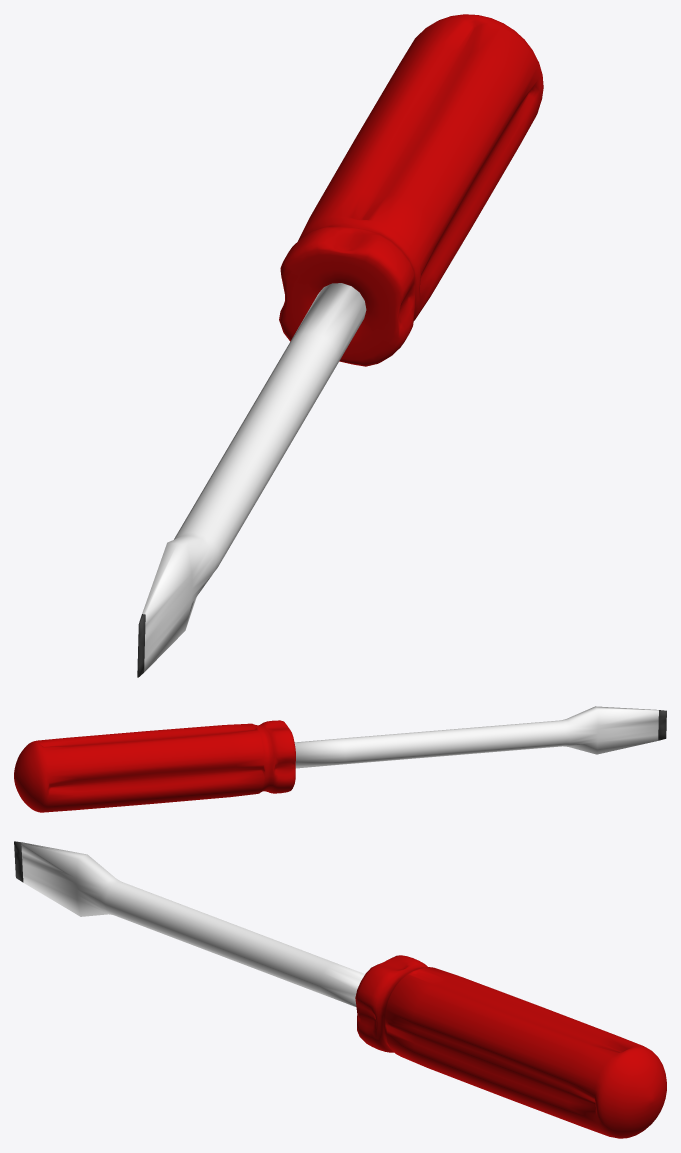
File: screwdriver.dae
The picture shows the model from 3 angles, top to bottom: view 1: azimuth 30°, elevation 25°; view 2: azimuth 150°, elevation 25°; view 3: azimuth 270°, elevation 25°; orthographic projection. The views are drawn at different scales.
Visible parts, largest first — view 1: handle, neck; view 2: handle, neck, tip; view 3: handle, neck.
Part boxes in pixels (x1,y1,x2,y2): handle: [279, 14, 543, 366]; neck: [142, 283, 366, 672]; handle: [14, 720, 295, 812]; neck: [294, 706, 658, 768]; tip: [658, 710, 666, 740]; handle: [355, 955, 666, 1138]; neck: [21, 842, 365, 1006].
Size of the model in its own units: 9.17 by 9.2 by 1.49.
